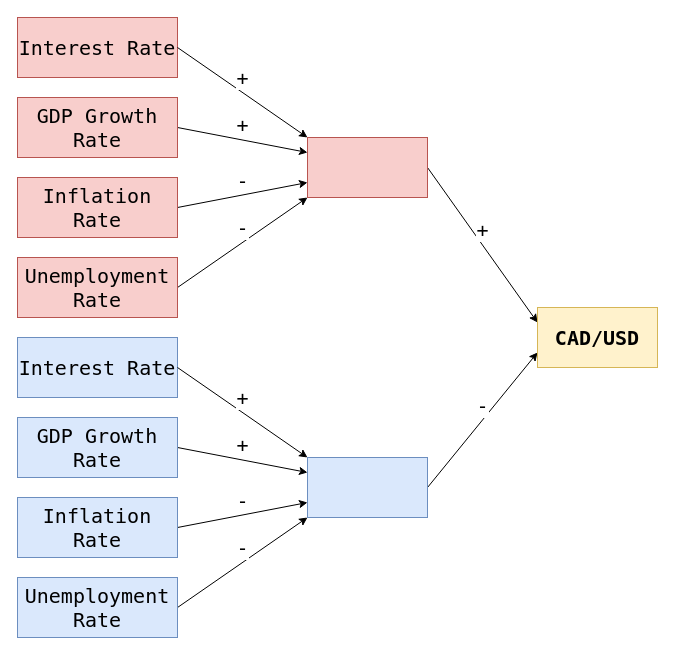
Image size: 675x655. Some labels were removed from this diagram. Here are the shapes that lost their labels. From the top down, the centre of each, then its label:
At point 367,167: "CAD".
At point 367,487: "USD".
